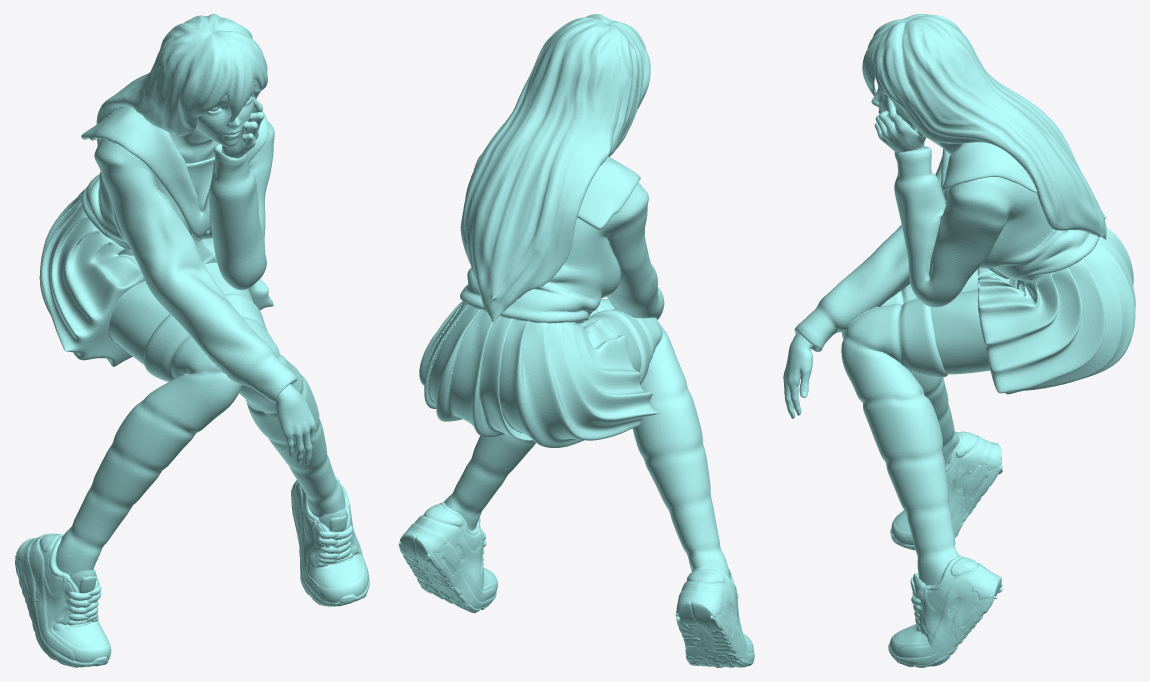
The model's file is 111uploads_files_4484401_school-girl.glb.
The picture shows the model from 3 angles, left to right: view 1: azimuth 30°, elevation 25°; view 2: azimuth 150°, elevation 25°; view 3: azimuth 270°, elevation 25°; orthographic projection. The views are drawn at different scales.
Size of the model in its own units: 11.29 by 20.47 by 11.19.
